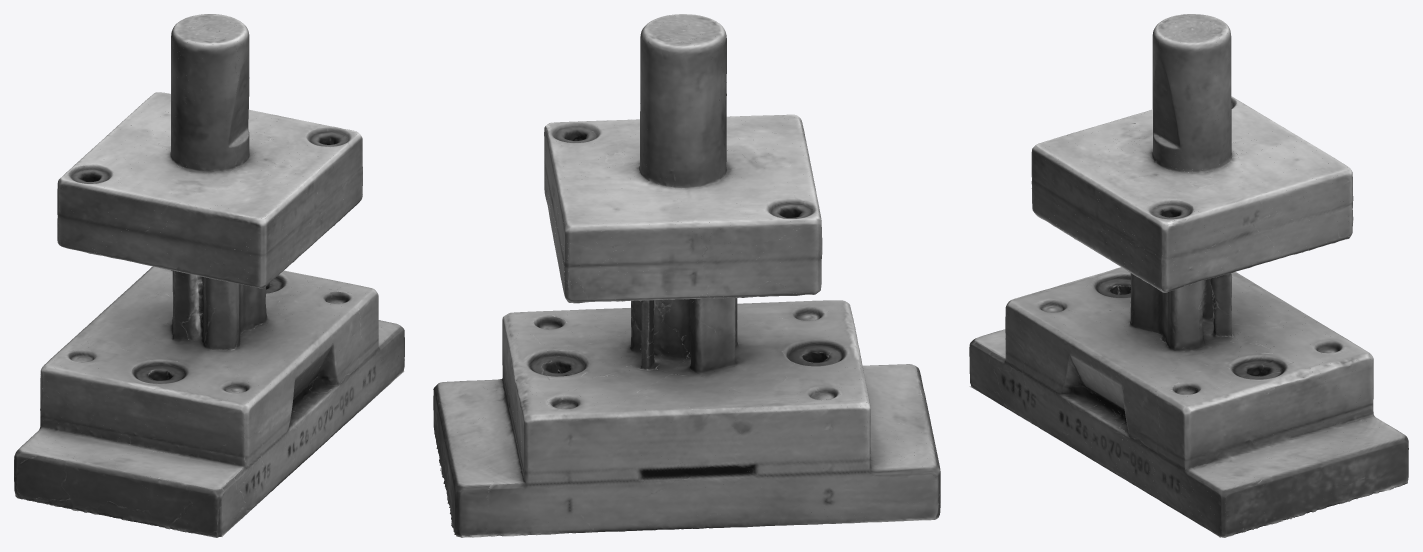
Rendered from industrial_stamp_med.glb.
3 renders of one model, left to right at view 1: azimuth 30°, elevation 25°; view 2: azimuth 150°, elevation 25°; view 3: azimuth 270°, elevation 25°, orthographic. The views are drawn at different scales.
Parts seen in each view (by area): view 1: Object_4, Object_5, Object_6; view 2: Object_4, Object_5, Object_6; view 3: Object_5, Object_4, Object_6.
Part boxes in pixels (bbox=[...]): Object_4: bbox=[14, 14, 404, 537]; Object_5: bbox=[41, 20, 366, 459]; Object_6: bbox=[14, 14, 404, 536]; Object_4: bbox=[433, 14, 940, 537]; Object_5: bbox=[454, 14, 906, 517]; Object_6: bbox=[433, 16, 940, 536]; Object_5: bbox=[1005, 15, 1389, 462]; Object_4: bbox=[969, 14, 1407, 537]; Object_6: bbox=[969, 14, 1408, 535].
Size of the model in its own units: 3.45 by 3.15 by 3.08.
2 materials, 2 textured.
